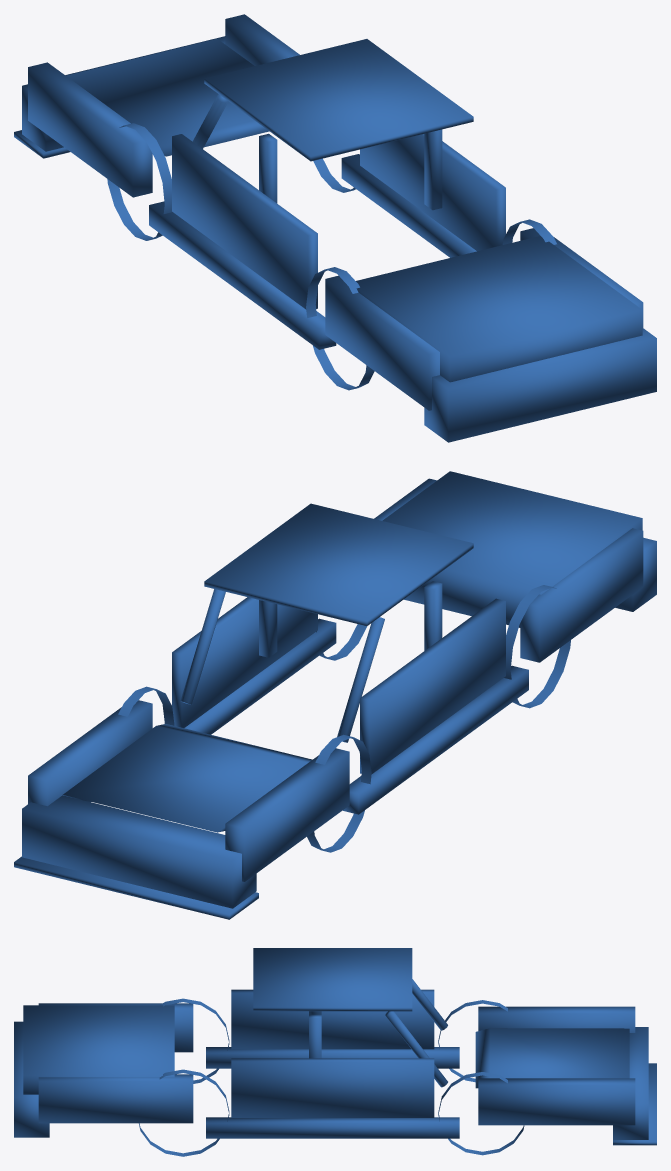
The model's file is body_sedan.glb.
3 renders of one model, top to bottom at view 1: azimuth 30°, elevation 25°; view 2: azimuth 150°, elevation 25°; view 3: azimuth 270°, elevation 25°, orthographic. The views are drawn at different scales.
Parts seen in each view (by area): view 1: BODY_Cabin, BODY_RearClip, BODY_FrontClip; view 2: BODY_Cabin, BODY_FrontClip, BODY_RearClip; view 3: BODY_Cabin, BODY_FrontClip, BODY_RearClip.
Part boxes in pixels (<box>): BODY_Cabin: <box>149,39,505,349</box>; BODY_RearClip: <box>306,219,656,442</box>; BODY_FrontClip: <box>14,14,355,240</box>; BODY_Cabin: <box>172,503,528,814</box>; BODY_FrontClip: <box>14,686,371,919</box>; BODY_RearClip: <box>316,471,656,708</box>; BODY_Cabin: <box>206,948,459,1138</box>; BODY_FrontClip: <box>438,1000,656,1155</box>; BODY_RearClip: <box>14,998,229,1156</box>.
Bounding box in the file's own units: 1.78 × 1.49 × 6.12.
